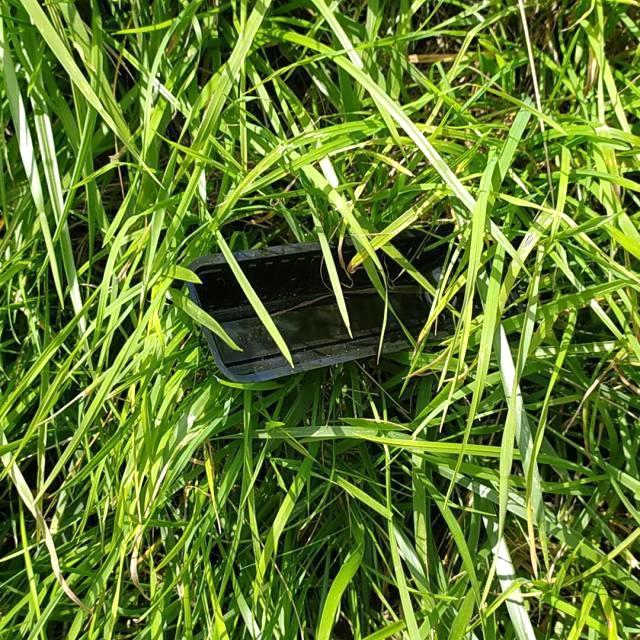Plastic: (184, 223, 484, 389)
